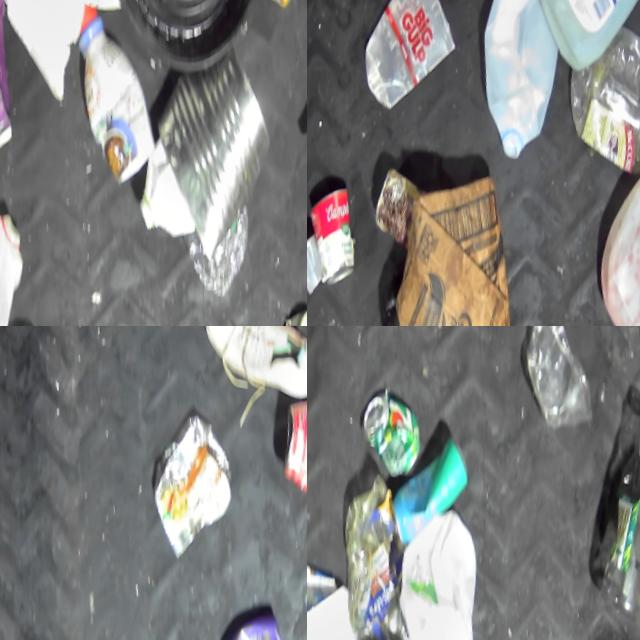can: (141, 28, 297, 263), (385, 437, 486, 543), (307, 173, 375, 293), (362, 385, 436, 485), (268, 380, 307, 488)
milk_jug: (465, 0, 575, 159), (392, 509, 505, 640), (521, 0, 640, 71), (0, 202, 51, 326)
non_white_jug: (216, 601, 304, 640)
plastic_bottle: (558, 23, 640, 184), (590, 414, 640, 615)
